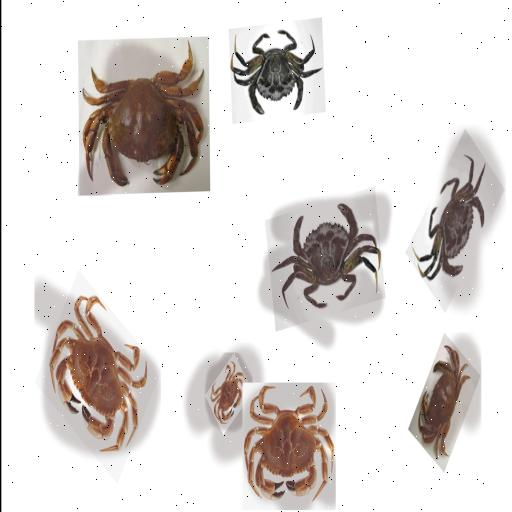green crab: (270, 184, 384, 330), (411, 145, 503, 294), (224, 26, 324, 128)
joe crab: (33, 289, 155, 462), (243, 388, 335, 504), (203, 355, 245, 432)
rock crab: (76, 35, 208, 197), (399, 338, 480, 472)
